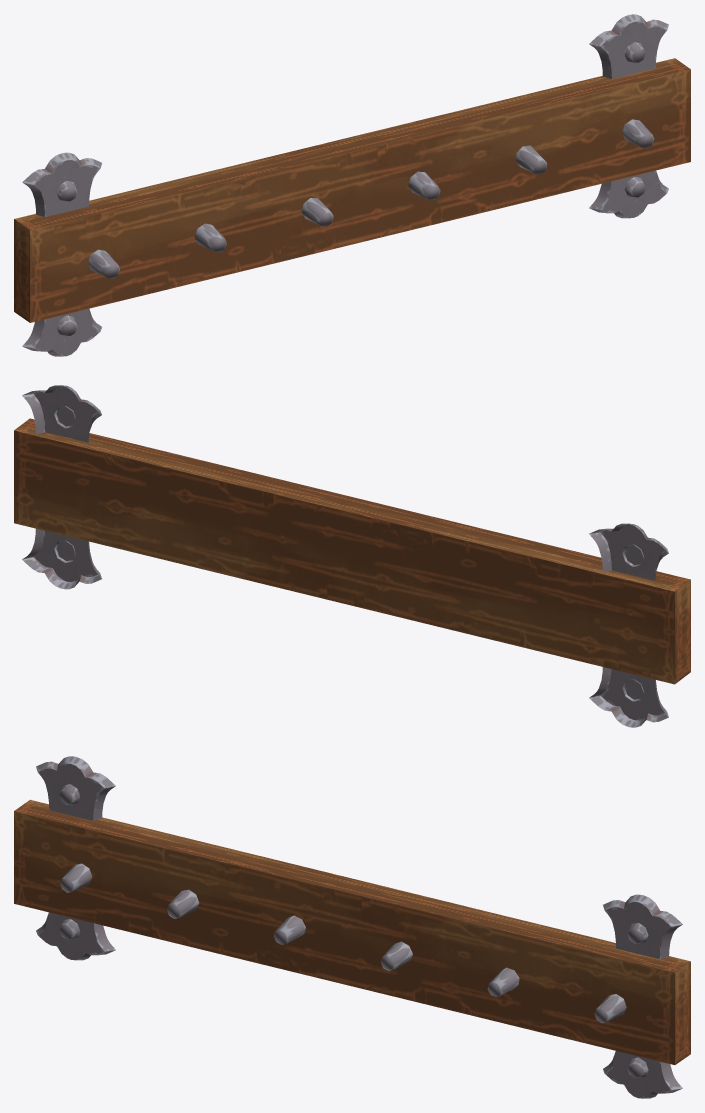
The model's file is Peg_Rack.gltf.
3 renders of one model, top to bottom at view 1: azimuth 30°, elevation 25°; view 2: azimuth 150°, elevation 25°; view 3: azimuth 330°, elevation 25°, orthographic.
Parts seen in each view (by area): view 1: Peg_Rack; view 2: Peg_Rack; view 3: Peg_Rack.
Boxes of the visible parts, x1,y1,x2,y2 form: Peg_Rack: (14, 14, 690, 356); Peg_Rack: (14, 385, 690, 727); Peg_Rack: (14, 756, 690, 1098).
Size of the model in its own units: 1.18 by 0.3479 by 0.0957.
2 materials, 2 textured.
